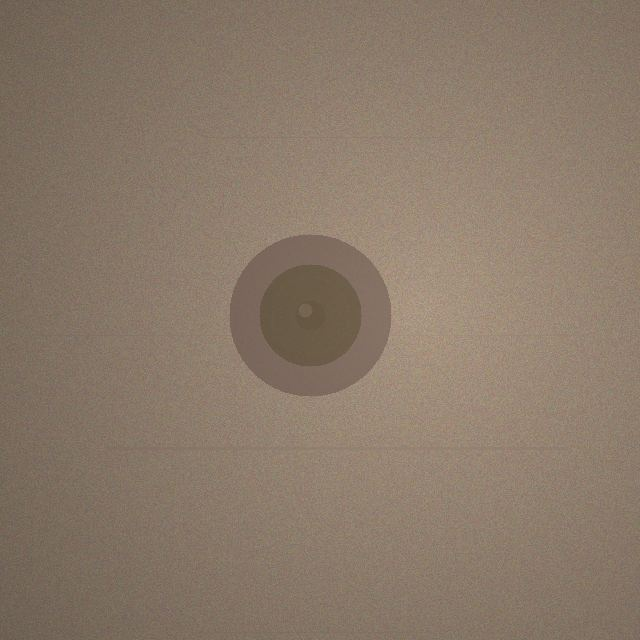good: (229, 234, 391, 396)
